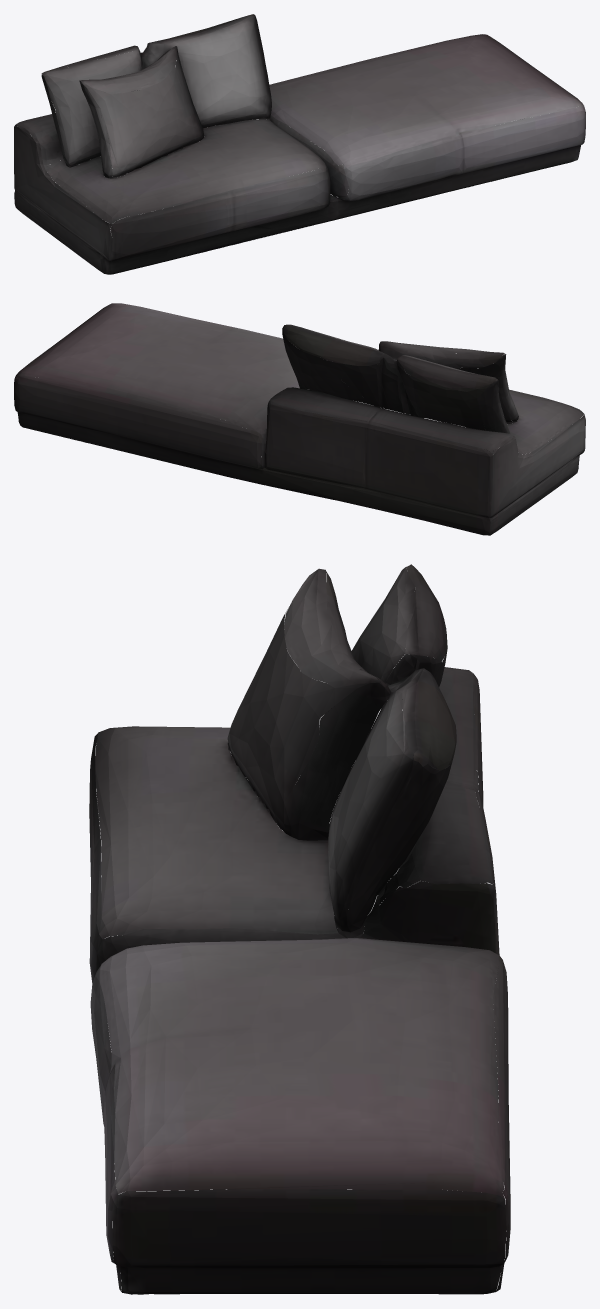
File: s-canape-gris.glb
The picture shows the model from 3 angles, top to bottom: view 1: azimuth 30°, elevation 25°; view 2: azimuth 150°, elevation 25°; view 3: azimuth 270°, elevation 25°; orthographic projection. The views are drawn at different scales.
Parts seen in each view (by area): view 1: geometry_0; view 2: geometry_0; view 3: geometry_0.
Part boxes in pixels (x1=…): geometry_0: x1=14, y1=14, x2=585, y2=274; geometry_0: x1=14, y1=303, x2=585, y2=535; geometry_0: x1=89, y1=564, x2=510, y2=1294.
Bounding box in the file's own units: 0.999 × 0.3014 × 0.3839.
1 material, 1 textured.
